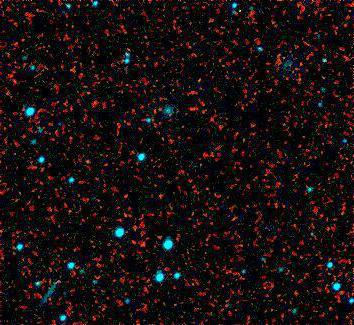star: (74, 145, 104, 175)
